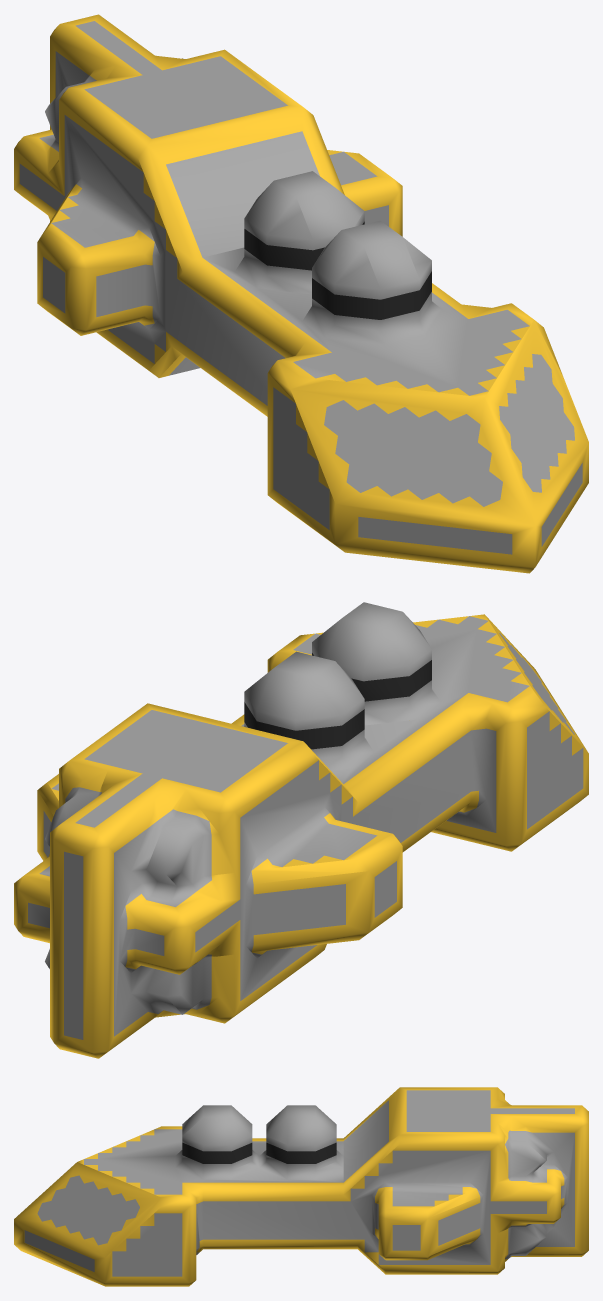
Rendered from mechyrdia-1-nano-class.obj.
3 renders of one model, top to bottom at view 1: azimuth 30°, elevation 25°; view 2: azimuth 150°, elevation 25°; view 3: azimuth 270°, elevation 25°, orthographic. The views are drawn at different scales.
Size of the model in its own units: 17 by 11 by 41.
1 material, 1 textured.
